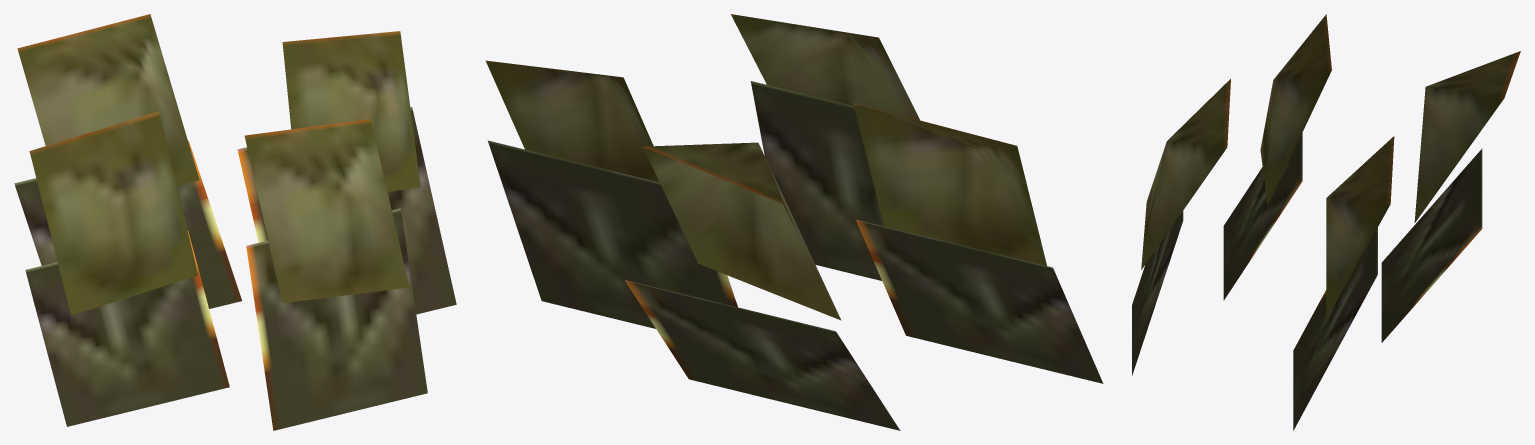
The model's file is flw_tulip_x.dae.
3 renders of one model, left to right at view 1: azimuth 30°, elevation 25°; view 2: azimuth 150°, elevation 25°; view 3: azimuth 270°, elevation 25°, orthographic. The views are drawn at different scales.
Visible parts, largest first — view 1: flw_tulip_x; view 2: flw_tulip_x; view 3: flw_tulip_x.
Boxes of the visible parts, x1,y1,x2,y2 form: flw_tulip_x: (14, 14, 456, 430); flw_tulip_x: (486, 14, 1103, 430); flw_tulip_x: (1132, 14, 1520, 430).
Bounding box in the file's own units: 30.95 × 17.79 × 25.83.
1 material, 1 textured.
